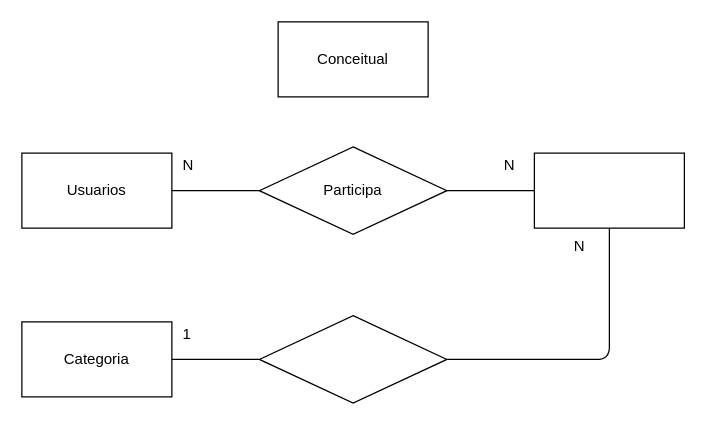
Some shapes in this 706 by 425 pixel diagram are drawn without their labels. The box of each missing label's shape, as (x1, y1, x2, y2) in pixels:
Contém: (258, 314, 447, 403)
Eventos: (533, 152, 684, 228)
